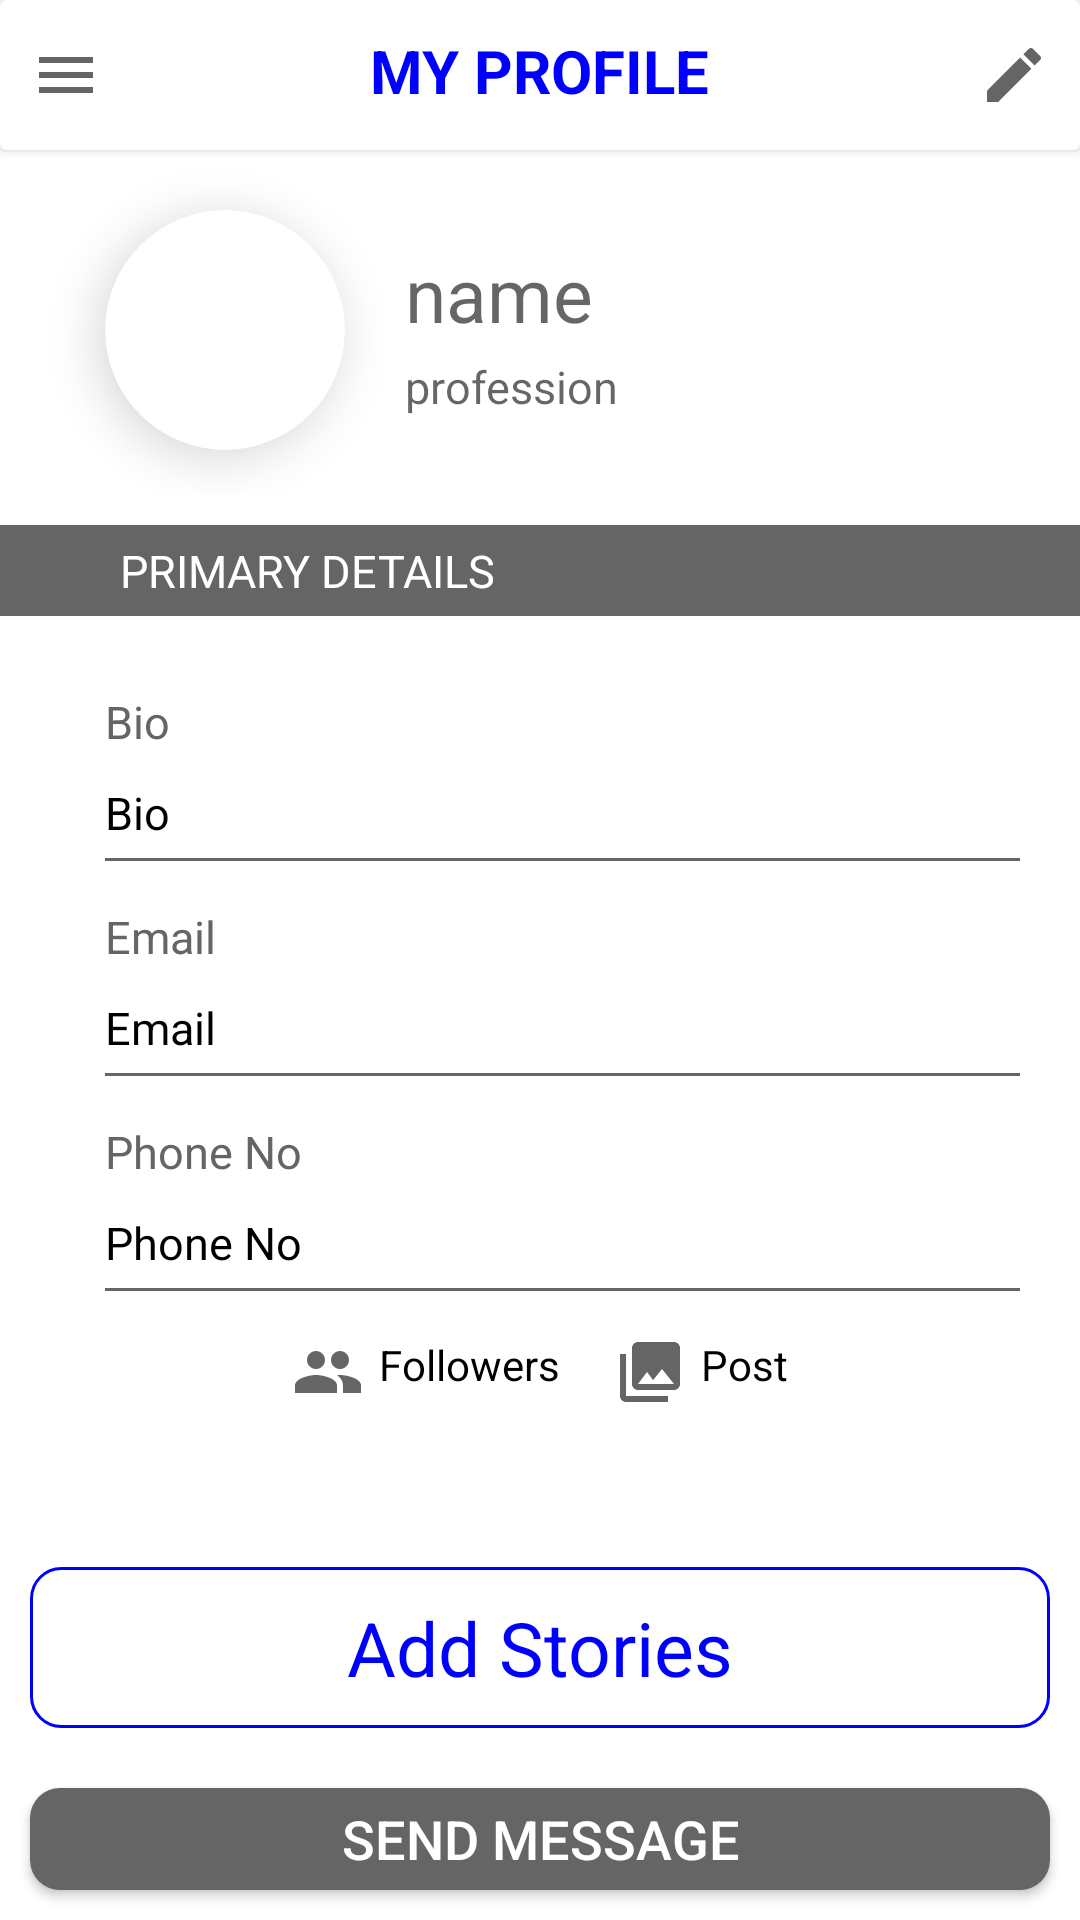

Screen size 1080×1920. Icon name, then its center in pixels as point (x, y):
edit: point (1014, 75)
menu: point (66, 75)
